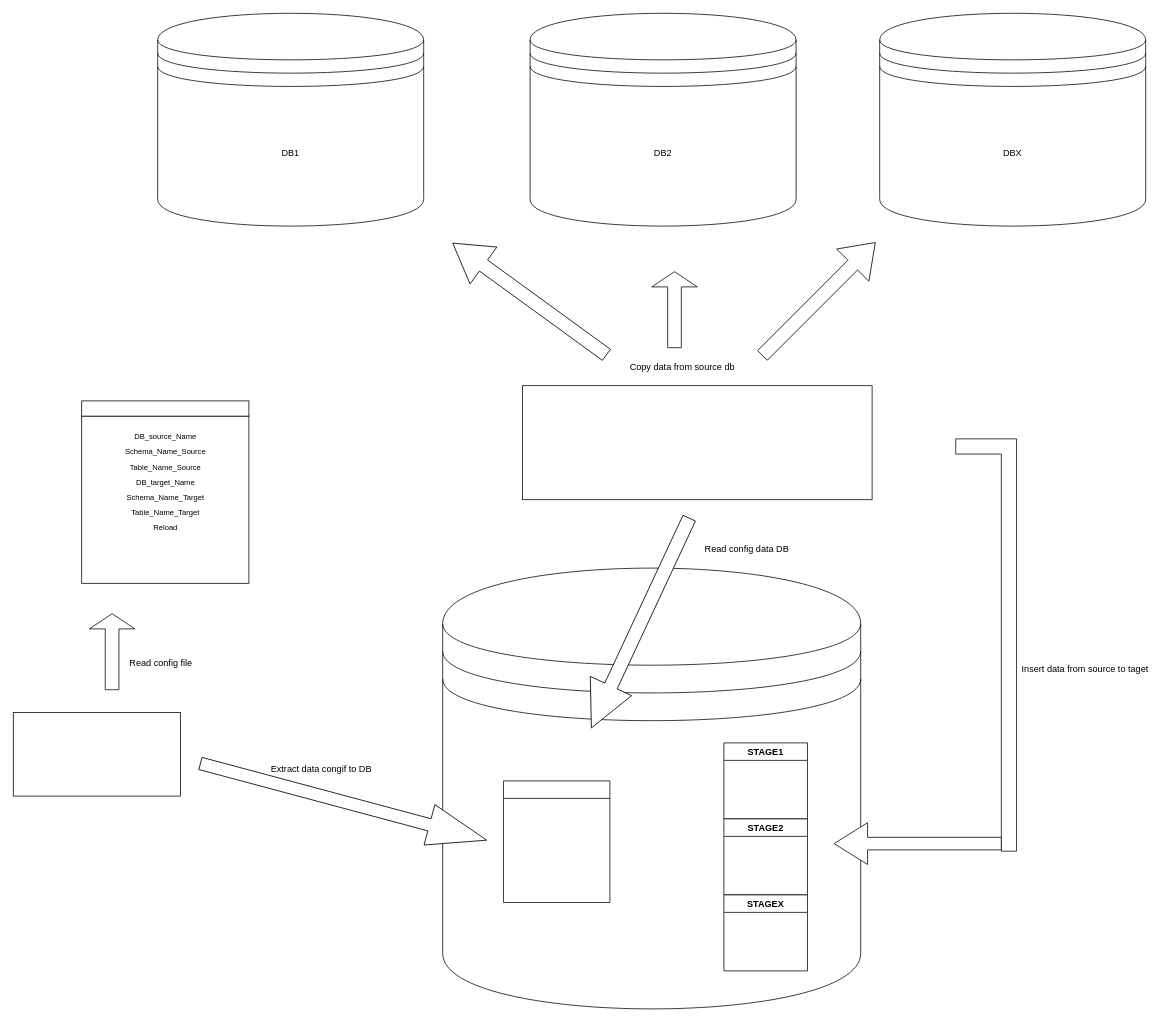
The diagram is 1170 pixels wide and 1022 high, and some of its shapes have lost their labels. Each missing label, with the box of its shape:
Config: (503, 780, 610, 902)
Config.xlsx: (81, 400, 249, 416)
DAG Config Excel: (13, 712, 180, 796)
DAG Full reliad all: (522, 385, 872, 500)
